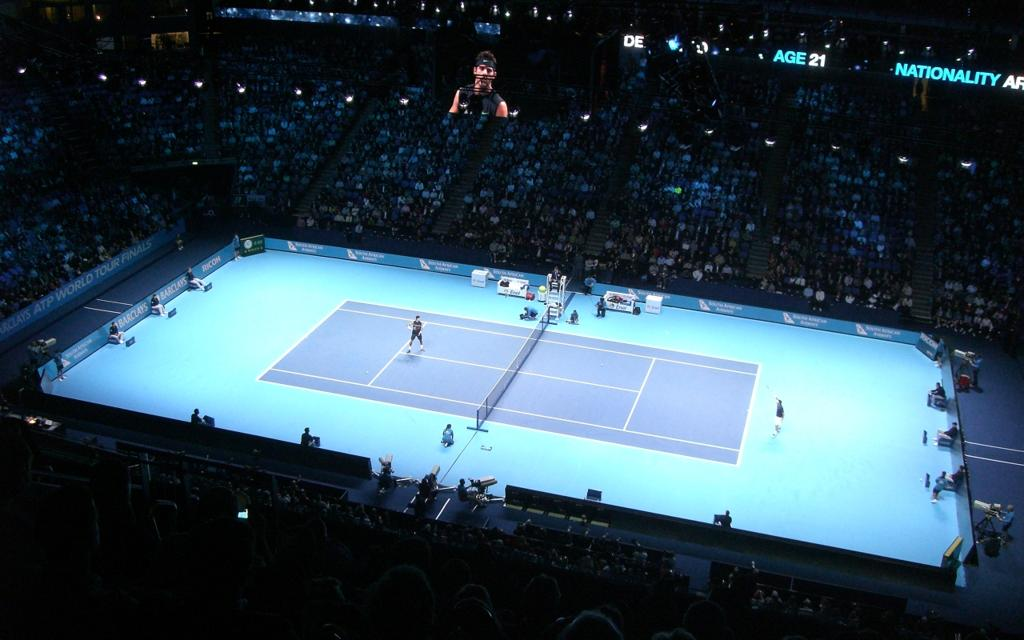face: (476, 63, 494, 86)
